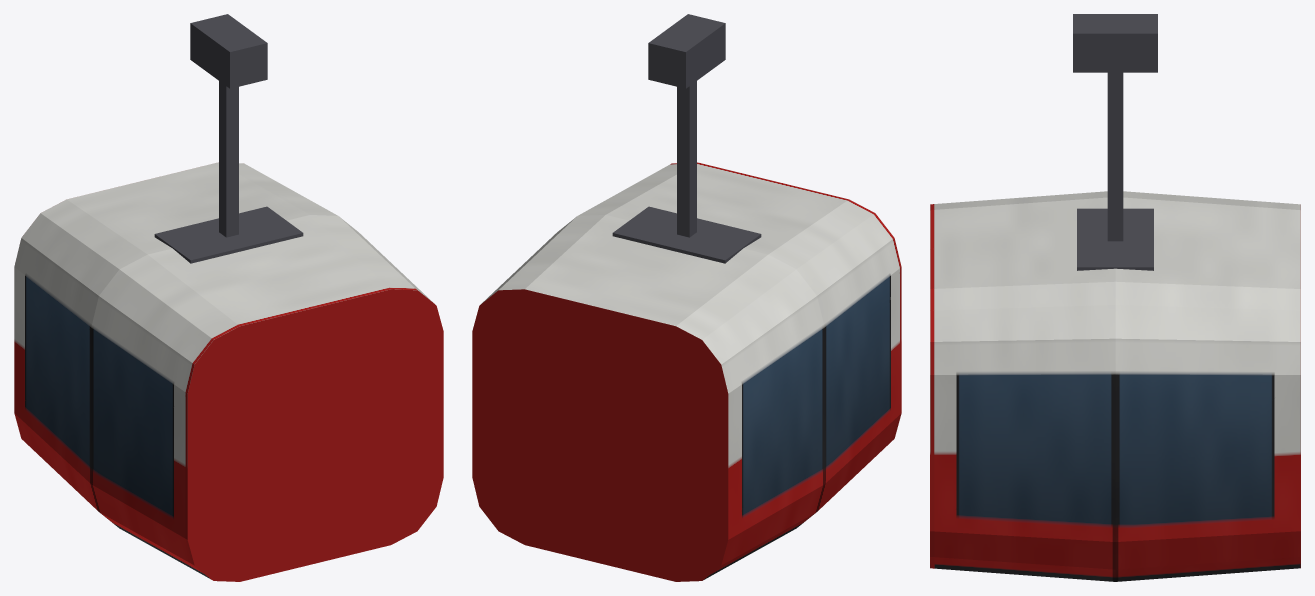
Rendered from cable_cabin.glb.
3 views of the same model, side by side, from view 1: azimuth 30°, elevation 25°; view 2: azimuth 150°, elevation 25°; view 3: azimuth 270°, elevation 25° (orthographic). The views are drawn at different scales.
Parts seen in each view (by area): view 1: Cabin; view 2: Cabin; view 3: Cabin.
Part boxes in pixels (<box>): Cabin: <box>14,14,443,581</box>; Cabin: <box>472,14,901,581</box>; Cabin: <box>930,14,1300,581</box>.
Bounding box in the file's own units: 2.2 × 3.64 × 2.4.
2 materials, 1 textured.
